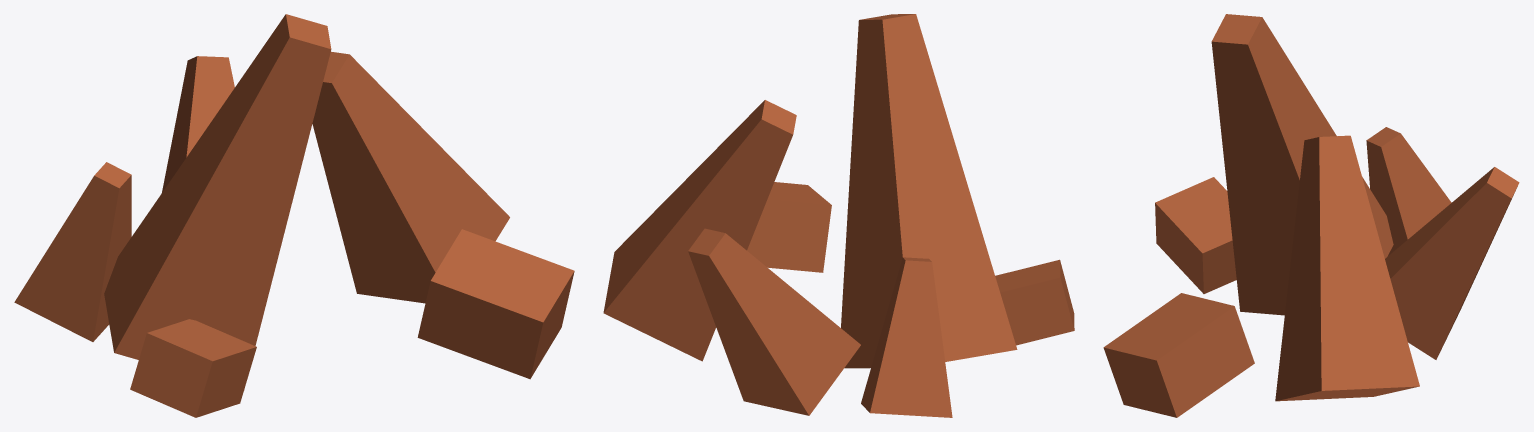
Rendered from ore_iron.glb.
The picture shows the model from 3 angles, left to right: view 1: azimuth 30°, elevation 25°; view 2: azimuth 150°, elevation 25°; view 3: azimuth 270°, elevation 25°; orthographic projection. The views are drawn at different scales.
Parts seen in each view (by area): view 1: ore_iron; view 2: ore_iron; view 3: ore_iron.
Boxes of the visible parts, x1,y1,x2,y2 form: ore_iron: (14, 14, 574, 417); ore_iron: (603, 14, 1074, 417); ore_iron: (1103, 14, 1519, 417).
Bounding box in the file's own units: 0.4608 × 0.3583 × 0.4203.
